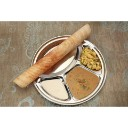dosa: (9, 22, 94, 88)
